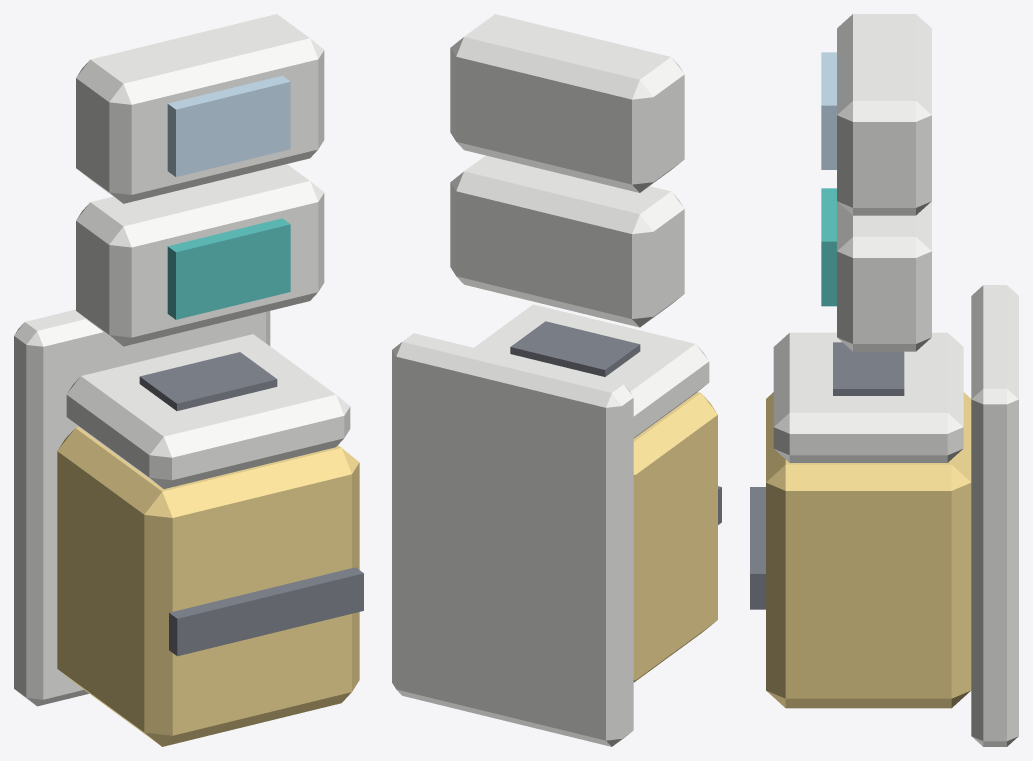
The model's file is medical-23626.glb.
3 views of the same model, side by side, from view 1: azimuth 30°, elevation 25°; view 2: azimuth 150°, elevation 25°; view 3: azimuth 270°, elevation 25° (orthographic). The views are drawn at different scales.
Visible parts, largest first — view 1: sharps-station; view 2: sharps-station; view 3: sharps-station.
Part boxes in pixels (box(x1,y1,x2,y2)): sharps-station: box(14, 14, 363, 746); sharps-station: box(392, 14, 721, 746); sharps-station: box(750, 14, 1018, 746).
Size of the model in its own units: 0.34 by 0.89 by 0.34.
